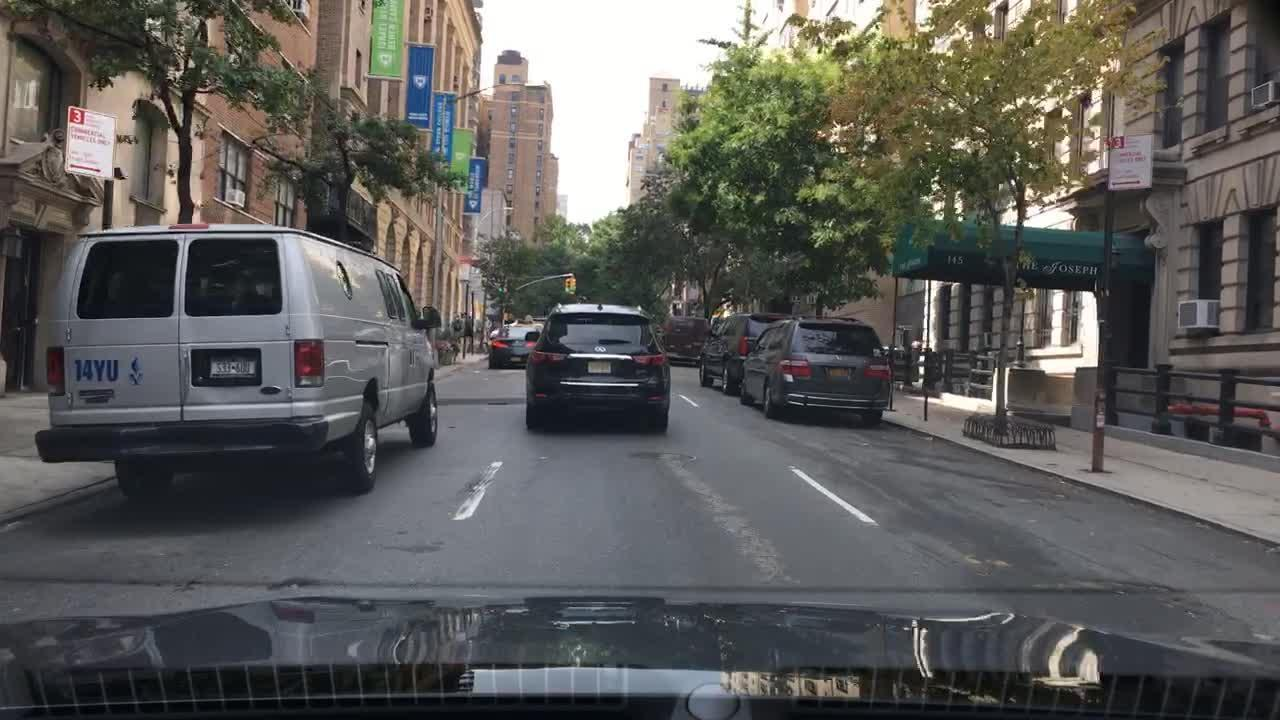Infiniti: (591, 344, 608, 356)
